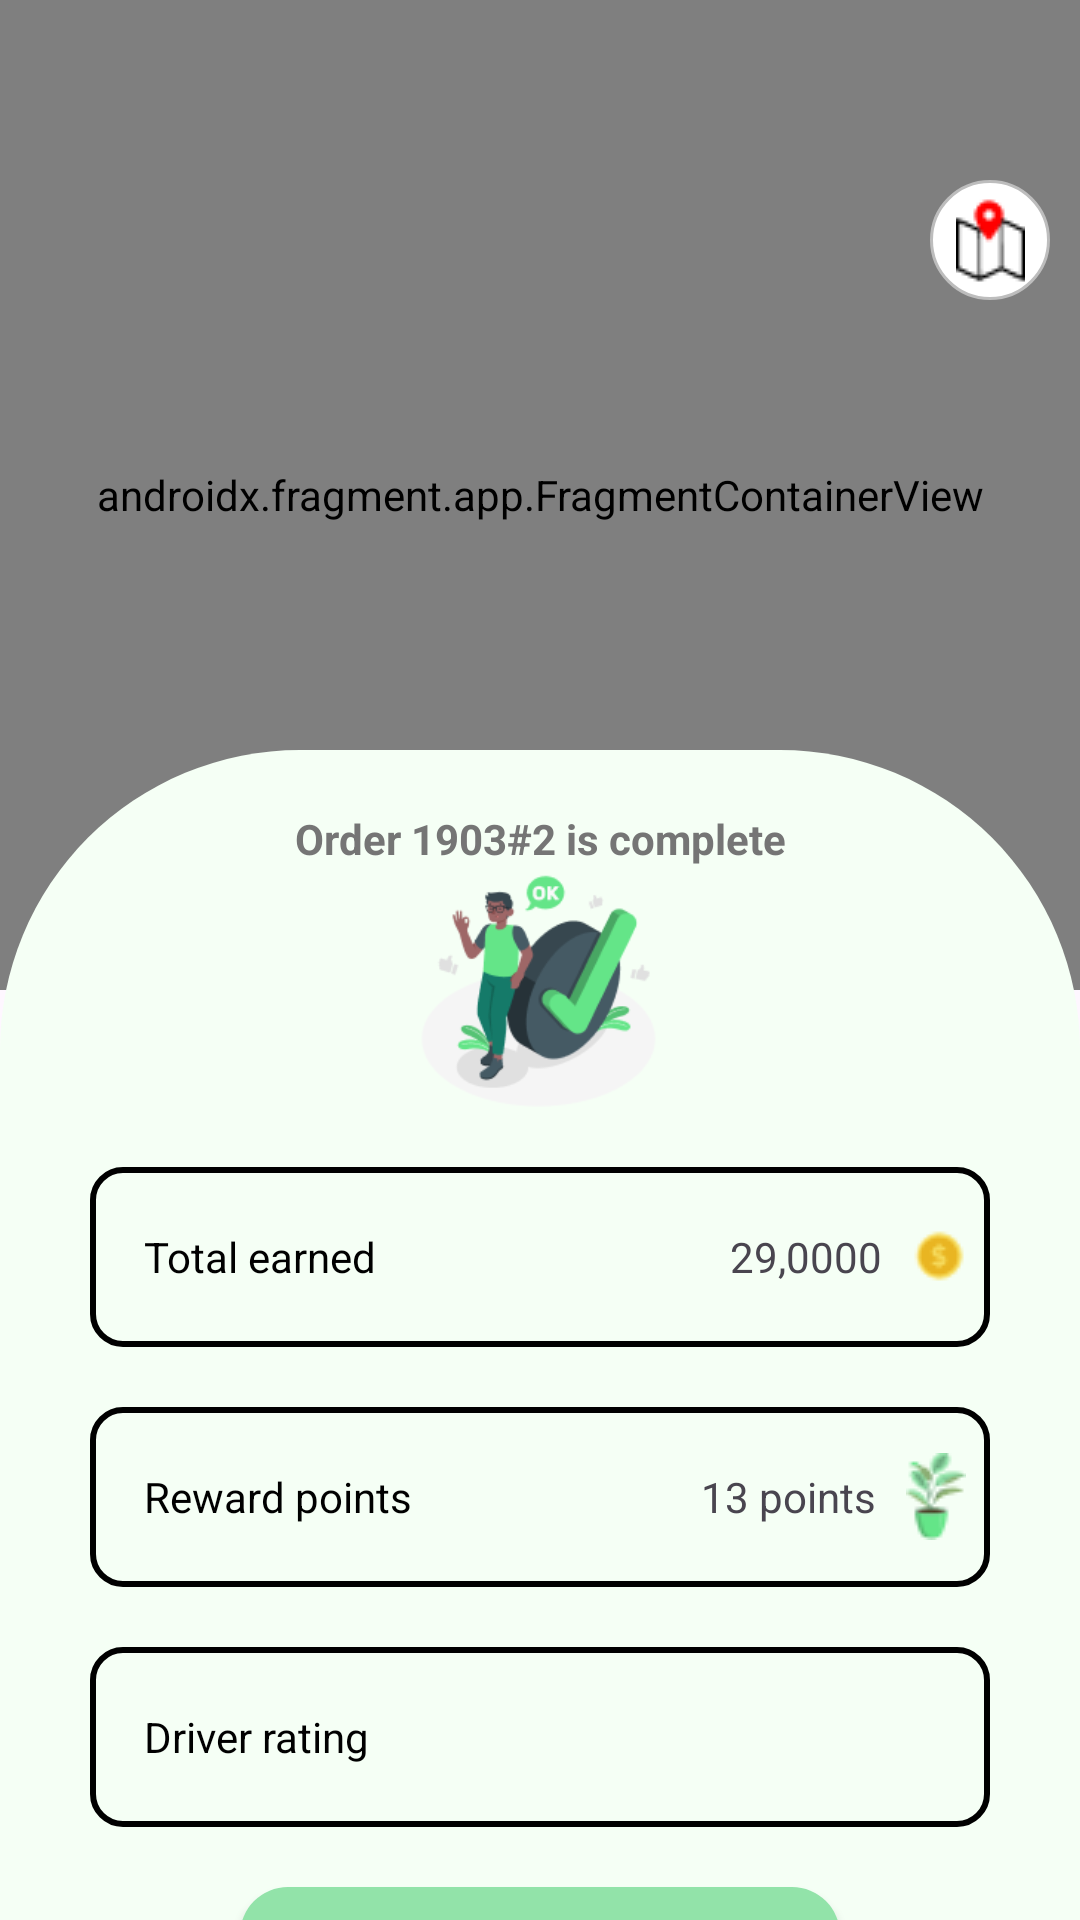

Where icons sit on this 1080w x 1920h app screen, as (x1, y1, x2, y2):
coin: (915, 1231, 964, 1281)
station: (930, 180, 1050, 300)
